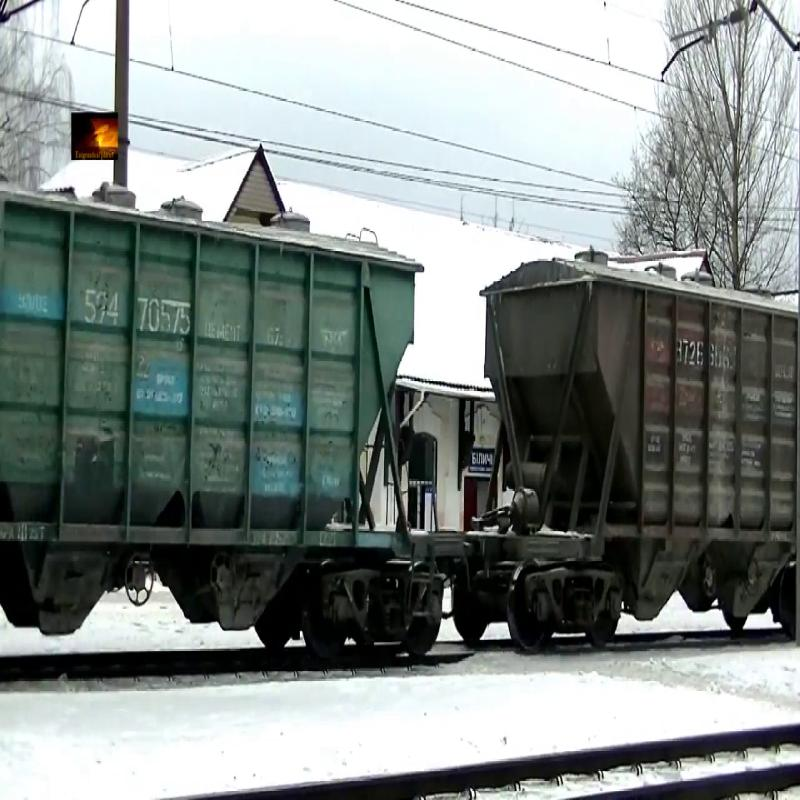train: (1, 200, 441, 674), (463, 266, 797, 658)
